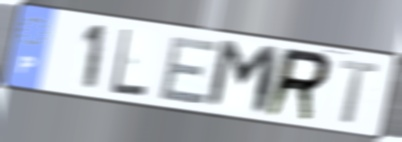1: (79, 22, 109, 92)
E: (156, 35, 223, 107)
L: (109, 26, 149, 99)
M: (203, 36, 284, 119)
R: (261, 45, 334, 125)
T: (338, 59, 382, 127)
